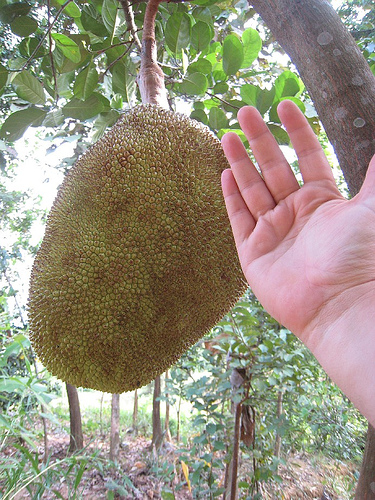jackfruit: (28, 103, 251, 393)
